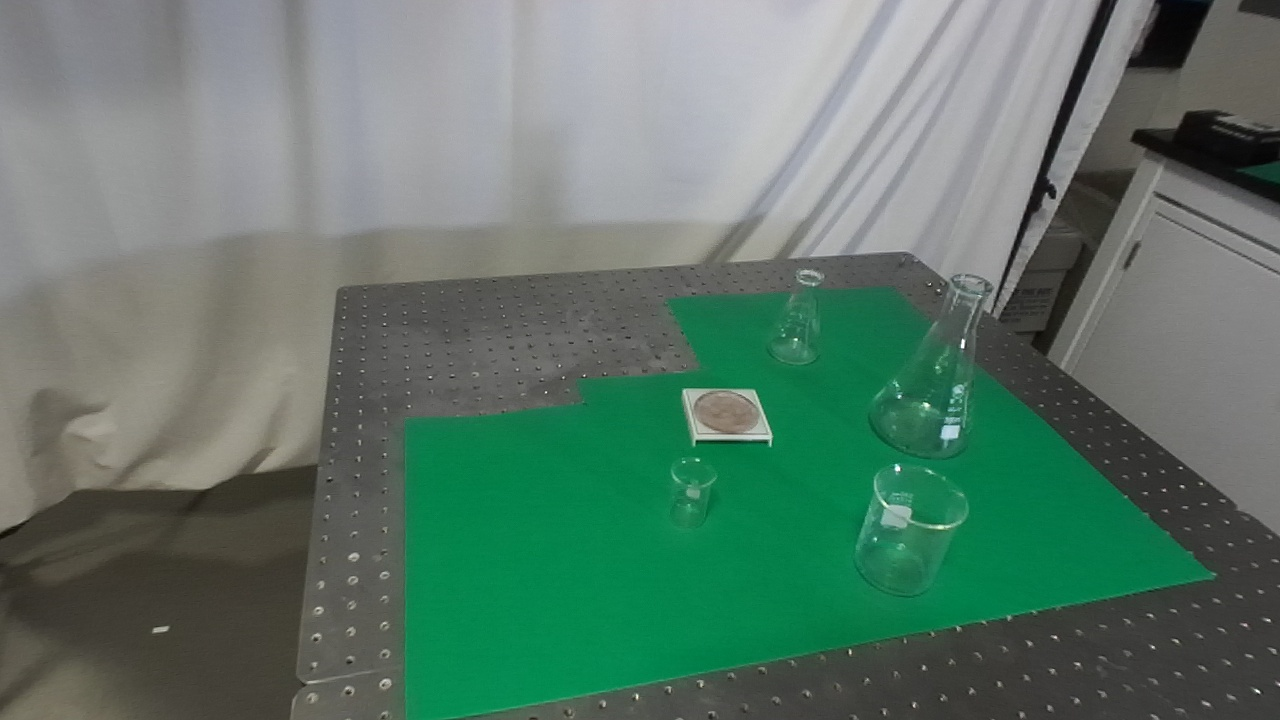glass: (862, 271, 995, 465), (851, 460, 974, 602), (768, 265, 826, 370), (666, 455, 720, 532)
plate: (679, 385, 776, 451)
